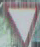Give way: (4, 1, 39, 44)
